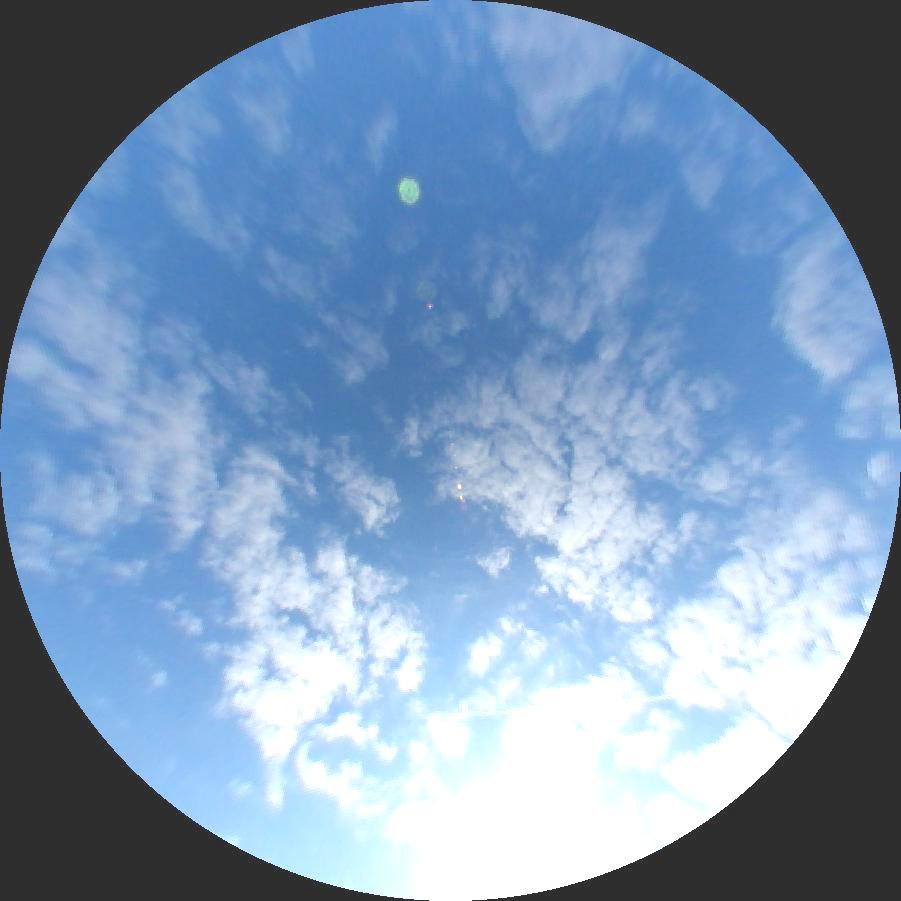contrail young: (421, 686, 737, 722)
